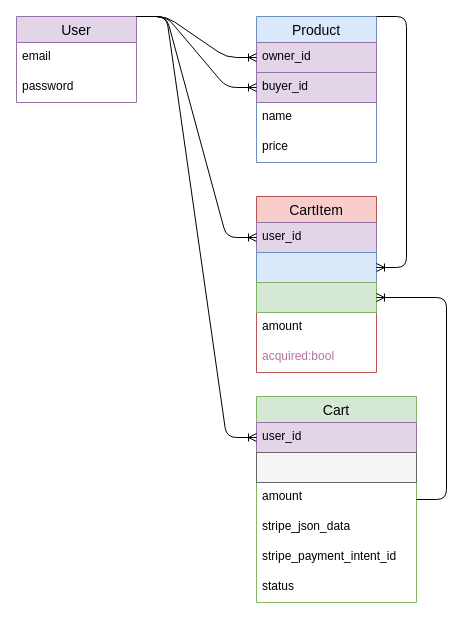
This 463x619 diagram has some shape labels left out. Each missing label, with the centre of its shape:
cart_id: (316,297)
product_id: (316,267)
session_id: (336,467)
